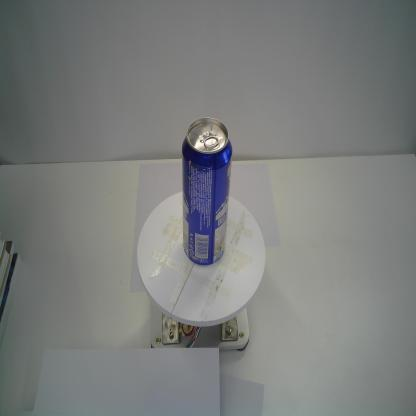Alcohol: (180, 115, 234, 269)
